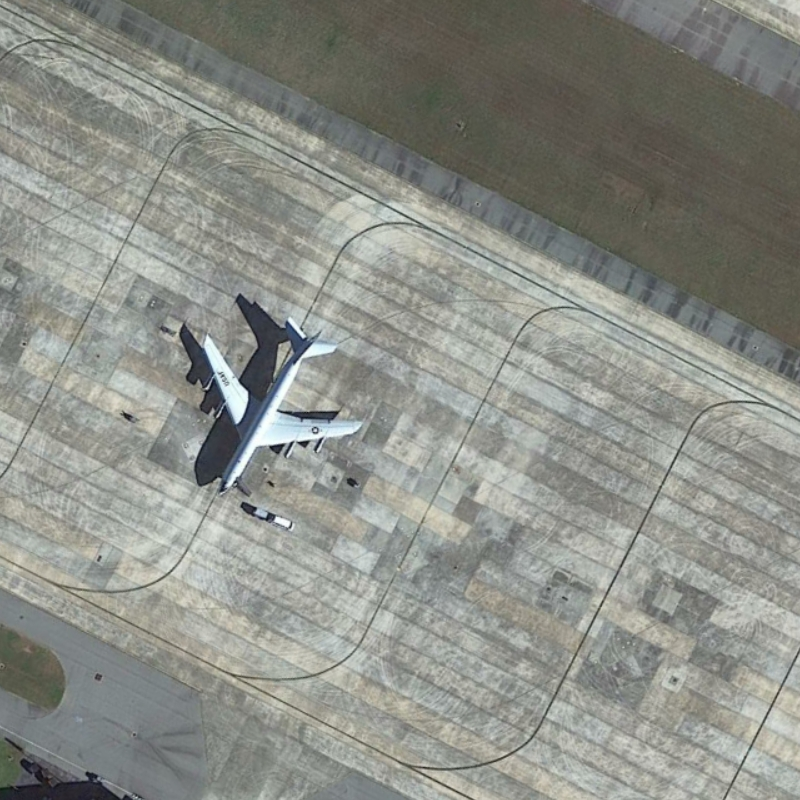A11: (196, 311, 366, 501)
